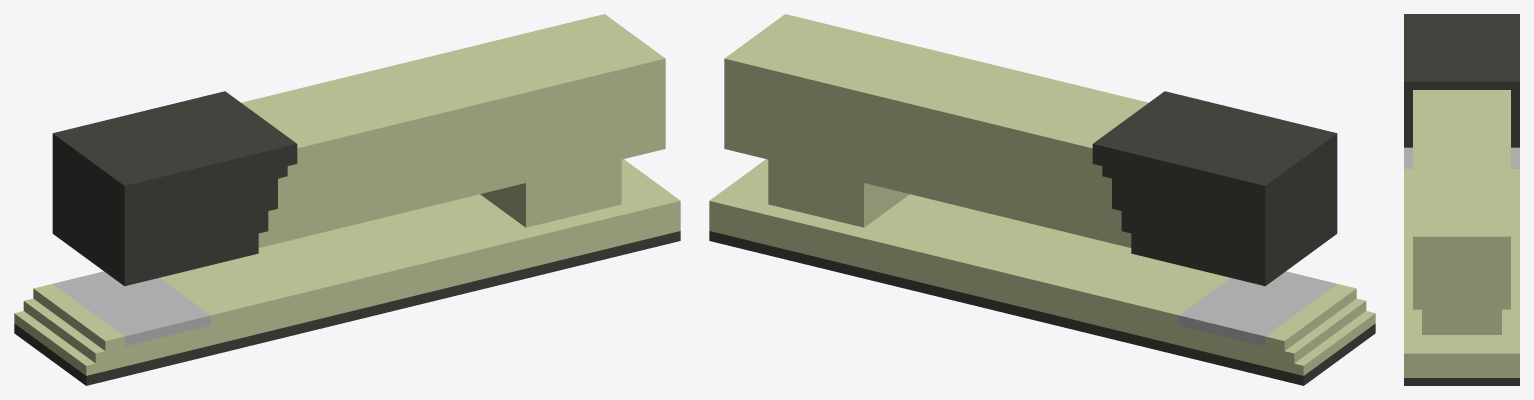
The model's file is Stapler1.fbx.
3 renders of one model, left to right at view 1: azimuth 30°, elevation 25°; view 2: azimuth 150°, elevation 25°; view 3: azimuth 270°, elevation 25°, orthographic. The views are drawn at different scales.
Parts seen in each view (by area): view 1: Stapler1, Stapler1.001; view 2: Stapler1, Stapler1.001; view 3: Stapler1, Stapler1.001.
Part boxes in pixels (x1,y1,x2,y2): Stapler1: (52,14,665,286); Stapler1.001: (14,159,680,385); Stapler1: (724,14,1337,286); Stapler1.001: (709,159,1375,385); Stapler1: (1404,14,1519,309); Stapler1.001: (1404,147,1519,385).
Bounding box in the file's own units: 6.2 × 1.9 × 1.3.
